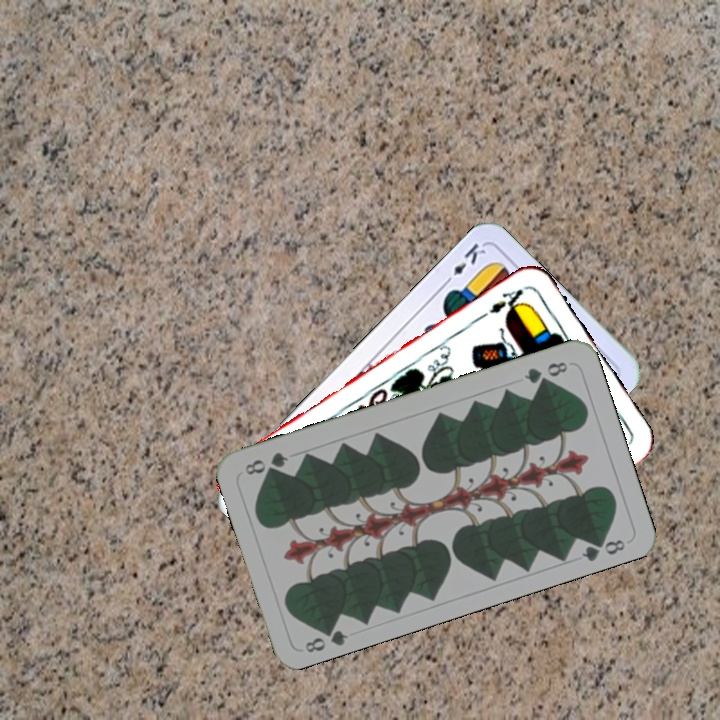EA: (485, 284, 529, 318)
EK: (439, 239, 489, 288)
G8: (301, 620, 351, 656), (520, 357, 571, 386)
